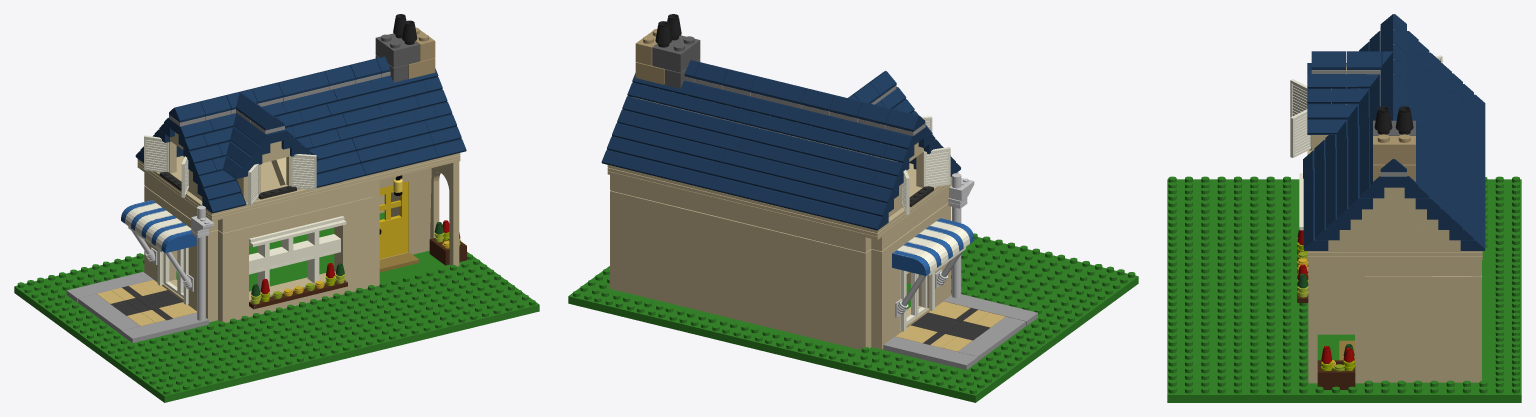
File: bluehouse2.FBX
3 views of the same model, side by side, from view 1: azimuth 30°, elevation 25°; view 2: azimuth 150°, elevation 25°; view 3: azimuth 270°, elevation 25° (orthographic). The views are drawn at different scales.
Parts seen in each view (by area): view 1: Box001; view 2: Box001; view 3: Box001.
Boxes of the visible parts, x1,y1,x2,y2 form: Box001: (14,14,539,402); Box001: (568,14,1138,402); Box001: (1167,14,1521,402).
Bounding box in the file's own units: 343 × 202 × 238.
